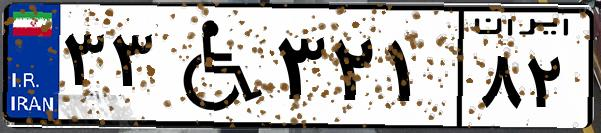1: (385, 28, 445, 110)
2: (330, 28, 385, 110), (525, 38, 570, 115)
3: (270, 28, 330, 110), (57, 26, 110, 100), (110, 28, 158, 98)
8: (475, 38, 525, 113)
ژ (معلولین و جانبازان): (158, 12, 270, 120)
